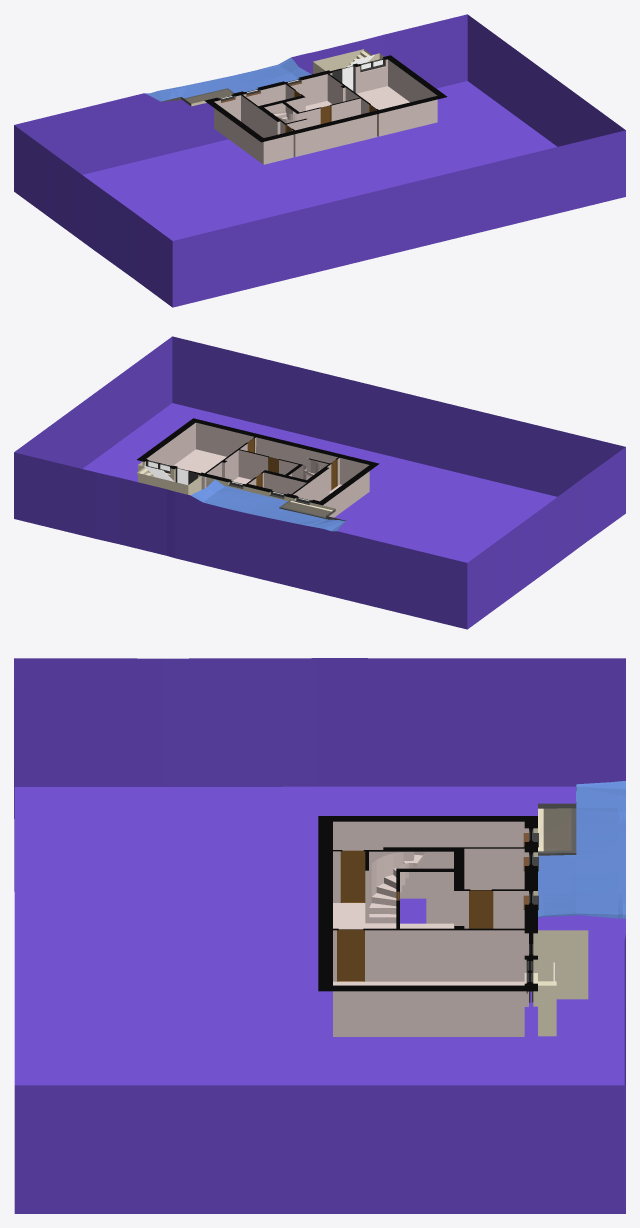
Rendered from casaBacau_baseFloor.glb.
3 views of the same model, one above another, from view 1: azimuth 30°, elevation 25°; view 2: azimuth 150°, elevation 25°; view 3: azimuth 270°, elevation 25° (orthographic). The views are drawn at different scales.
Visible parts, largest first — view 1: Tigla rosie - ondulata.005, Model 1.004, Plane.003; view 2: Tigla rosie - ondulata.005, Model 1.004, Plane.003; view 3: Tigla rosie - ondulata.005, Model 1.004, Plane.003.
Boxes of the visible parts, <box> form: Tigla rosie - ondulata.005: <box>14,14,625,307</box>; Model 1.004: <box>214,59,437,164</box>; Plane.003: <box>204,55,447,142</box>; Tigla rosie - ondulata.005: <box>14,336,625,629</box>; Model 1.004: <box>146,422,369,517</box>; Plane.003: <box>137,418,379,505</box>; Tigla rosie - ondulata.005: <box>14,658,625,1213</box>; Model 1.004: <box>333,821,530,1036</box>; Plane.003: <box>318,816,537,991</box>.
Bounding box in the file's own units: 33.06 × 4.64 × 20.02.
